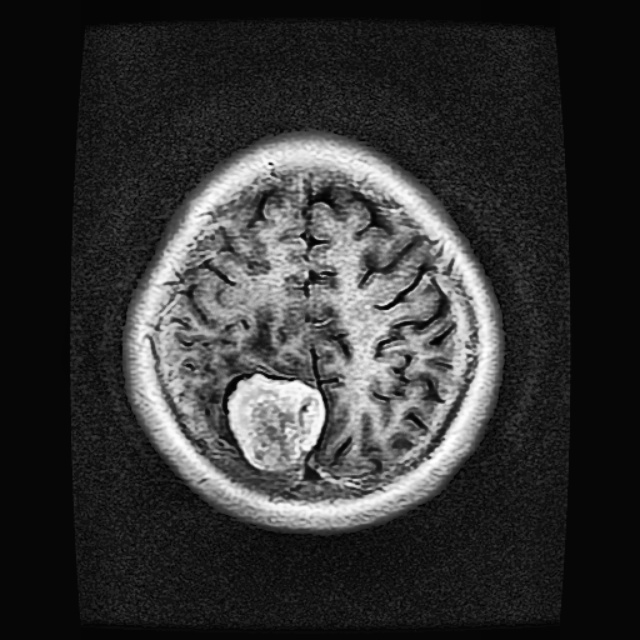Pituitary: (225, 372, 324, 473)
